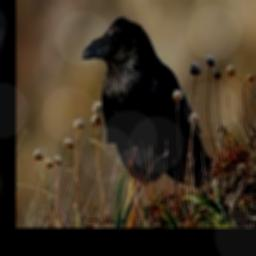Crow: (82, 16, 212, 190)
